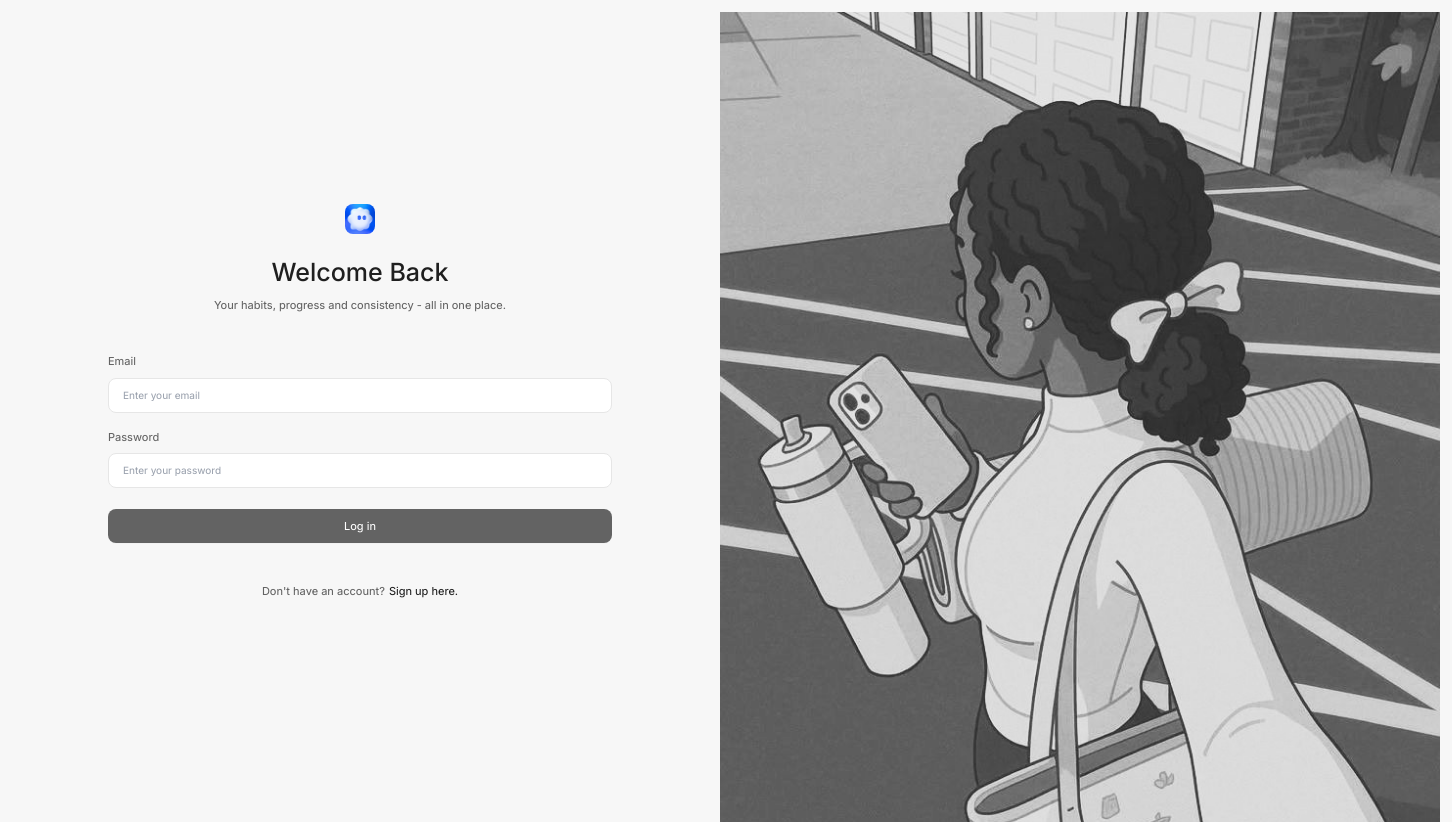
it: auth flow › shows an error for invalid login credentials
In the field with test id "auth-login-email": (360, 395) [108,378,612,413], type "person@example.com"
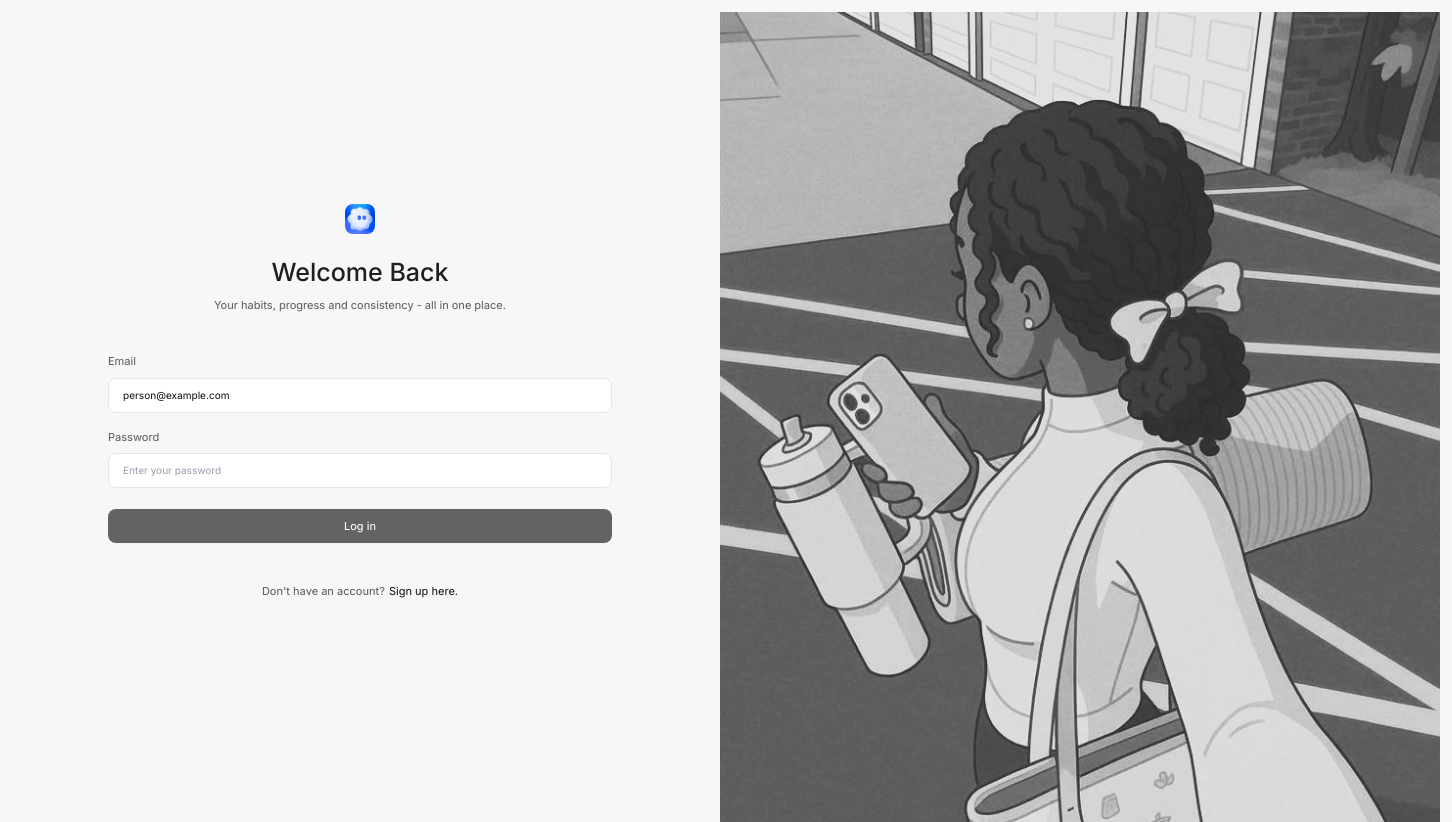
In the password field with test id "auth-login-password": (360, 471) [108,453,612,488], type "wrong-pass"
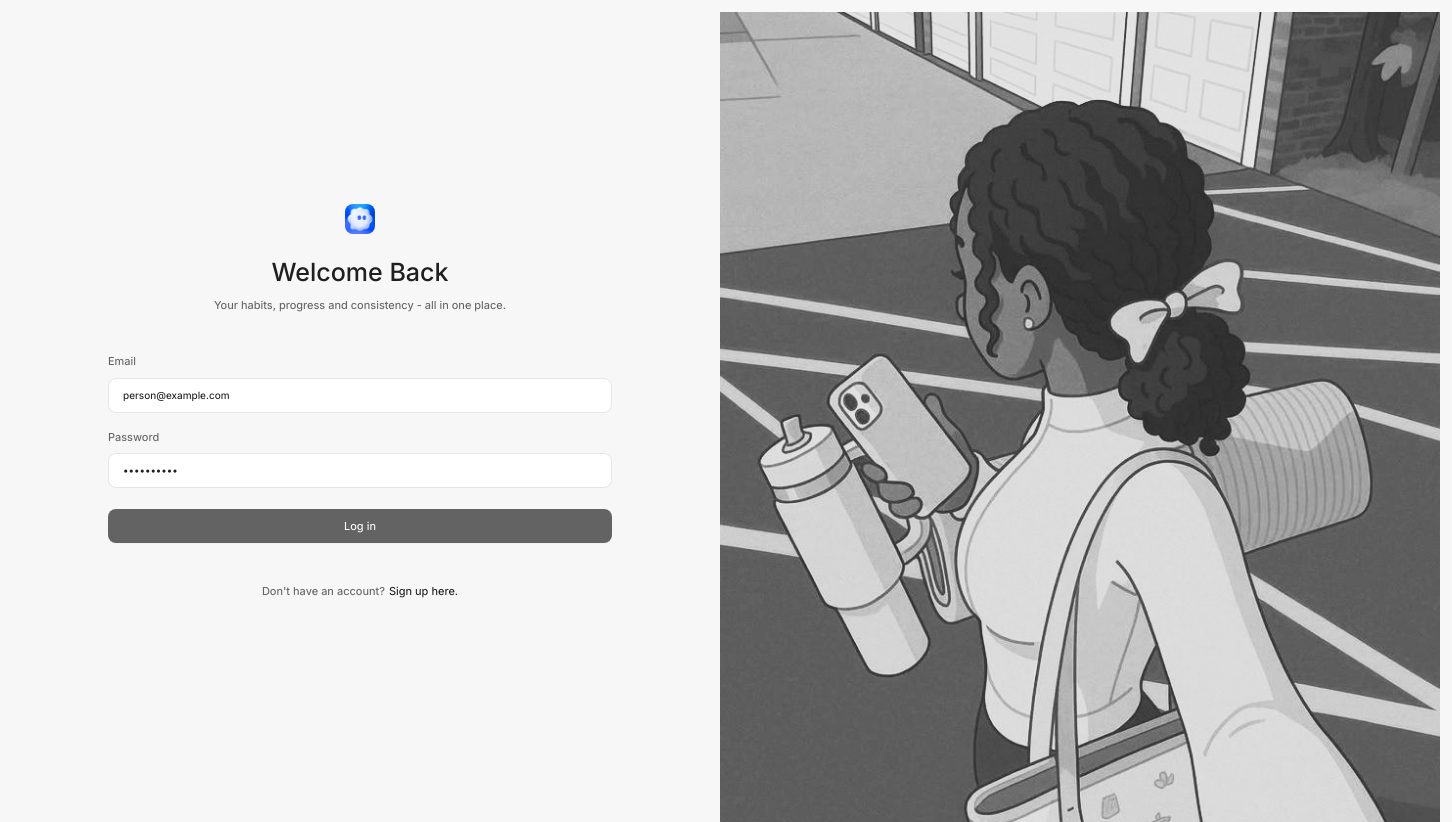
Click the button with test id "auth-login-submit": (360, 526) [108,509,612,543]
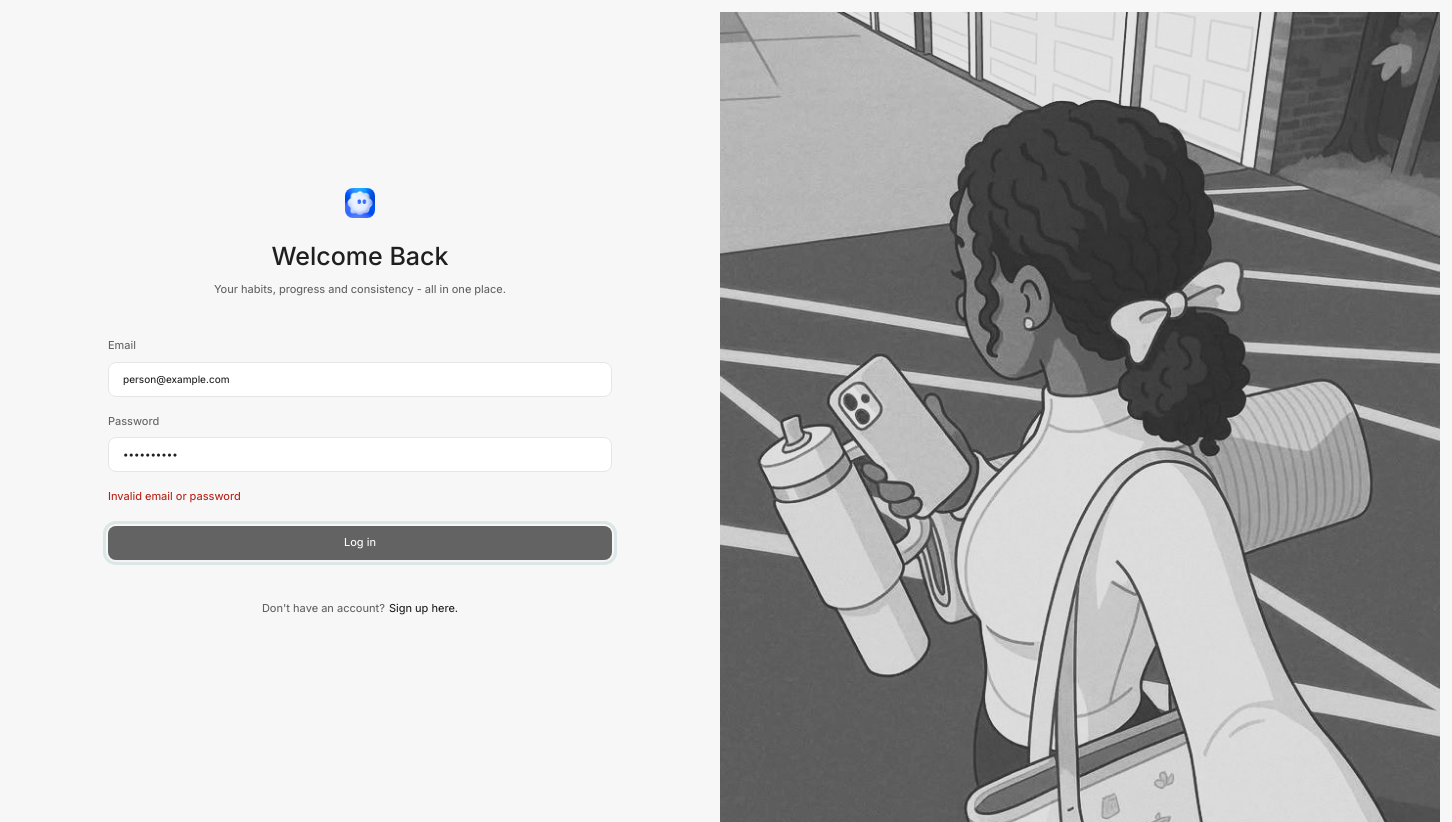
Result: the text "Invalid email or password" is shown at [108,489,241,503]
